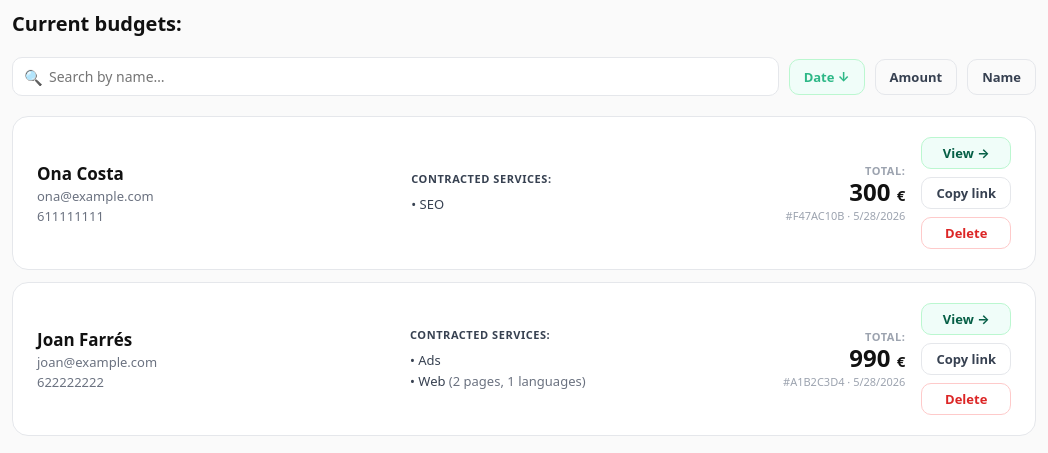
it: BudgetList › filters budgets by name search
In the search field with placeholder "Search by name…": (395, 76) 12,57 -> 779,96, type "Ona"
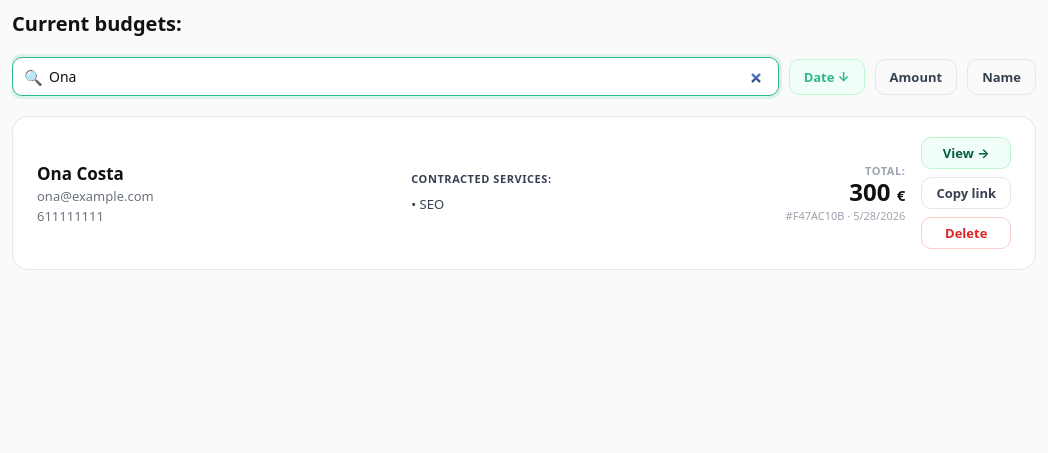
Expected: the text "Ona Costa" is shown, 37,162 -> 124,184
Now the text "Joan Farrés" is gone
